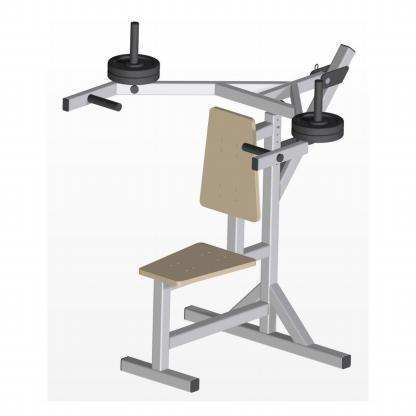shoulder press machine: (28, 12, 401, 402)
